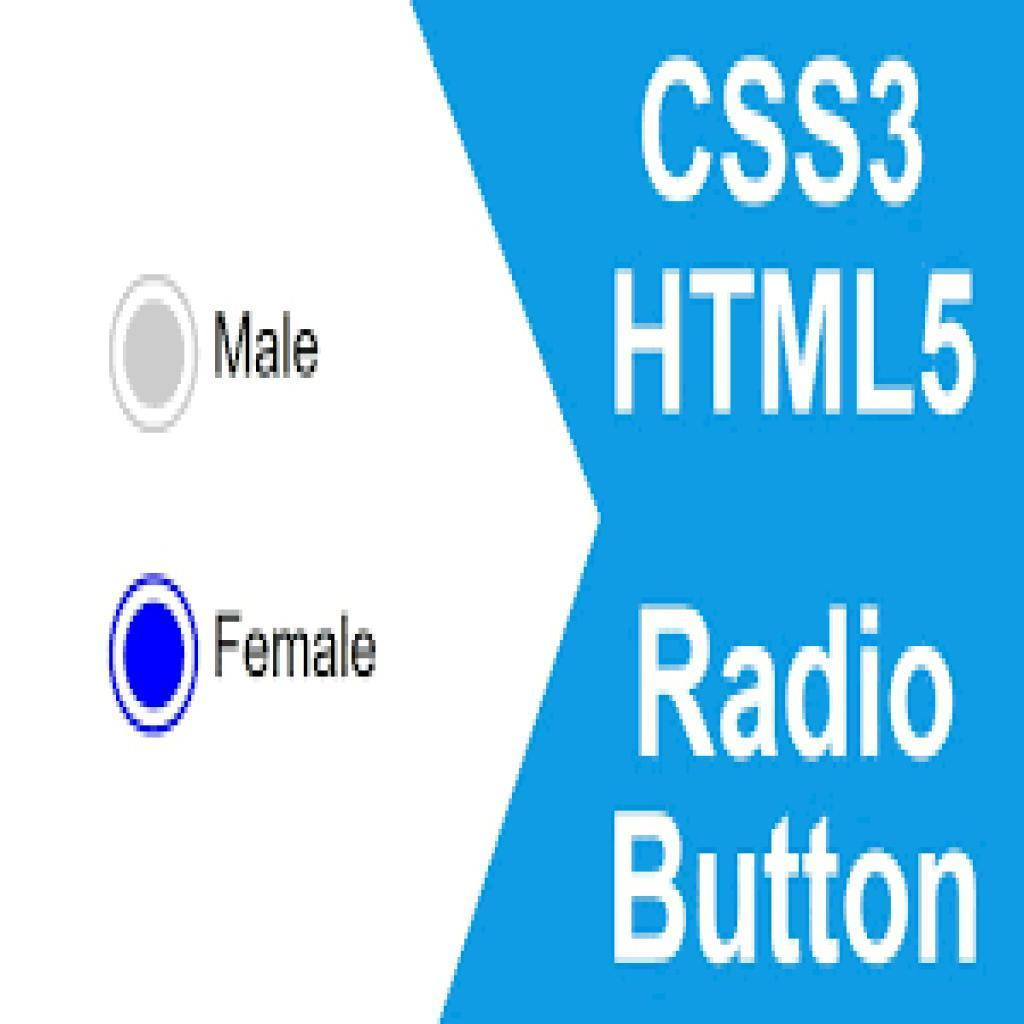radio: (100, 273, 203, 439), (103, 574, 203, 743)
